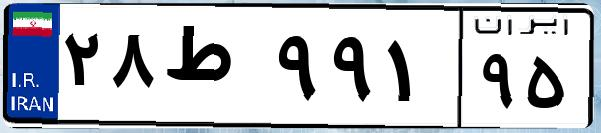1: (385, 28, 445, 110)
2: (57, 26, 110, 100)
5: (525, 38, 570, 115)
8: (110, 28, 158, 98)
9: (270, 28, 330, 110), (330, 28, 385, 110), (475, 38, 525, 113)
ط: (158, 20, 270, 120)
